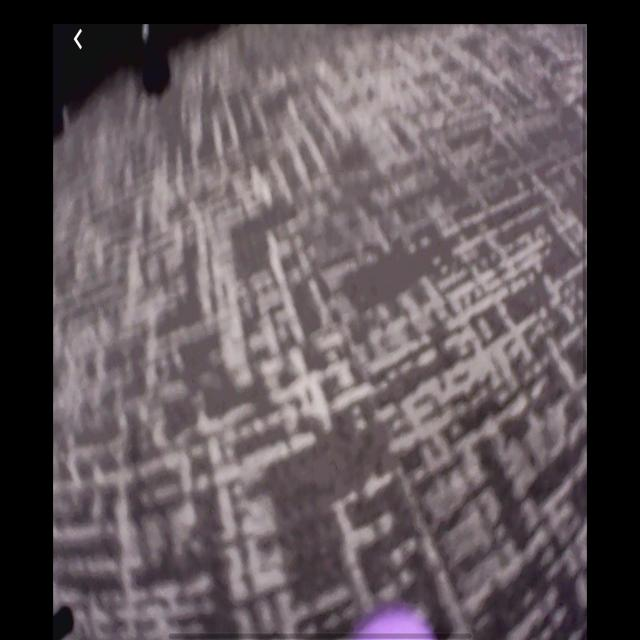ball: (341, 613, 448, 640)
